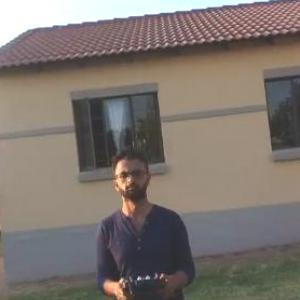follow: (89, 141, 203, 299)
